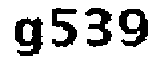3: (83, 5, 113, 49)
5: (48, 5, 79, 50)
9: (117, 6, 151, 51)
g: (11, 13, 44, 59)
